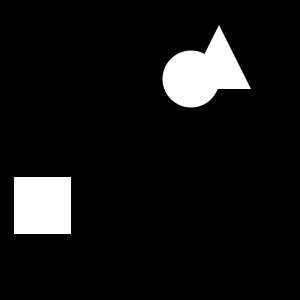circle: (14, 177, 71, 234)
rectangle: (163, 50, 220, 107)
triangle: (187, 25, 251, 89)
